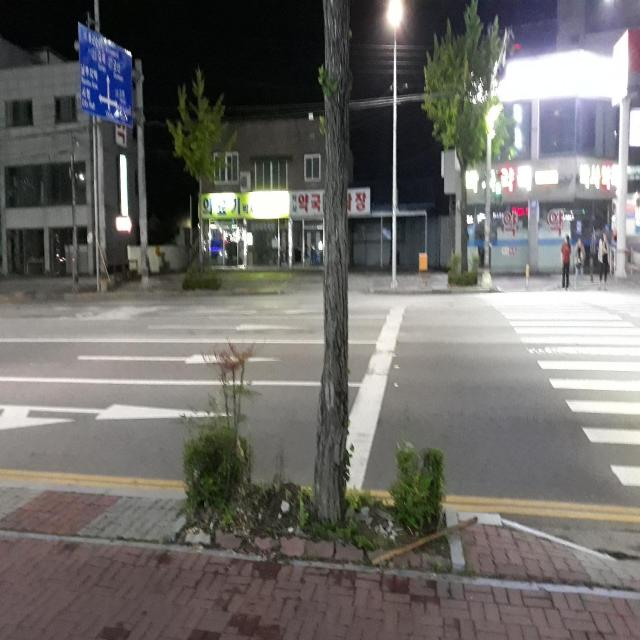초록불: (493, 171, 502, 209)
횡단보도: (482, 291, 639, 491)
